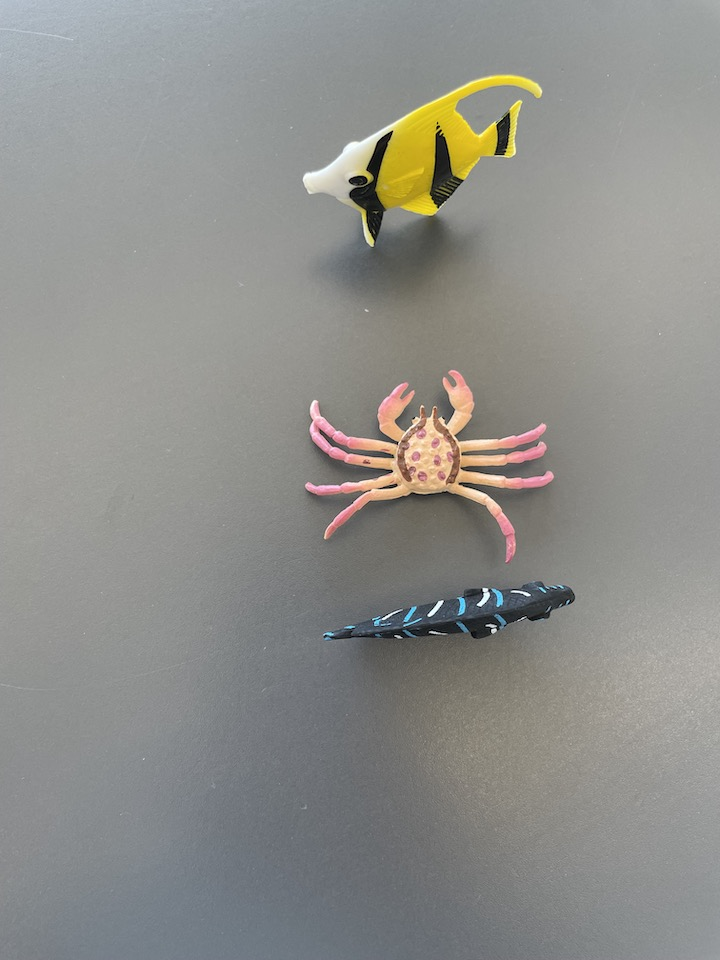crab: (302, 369, 556, 568)
danger: (300, 74, 545, 249)
fish: (321, 581, 577, 644)
